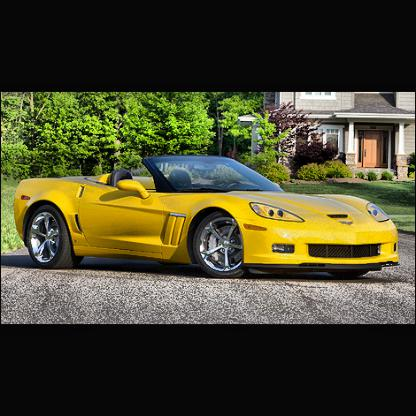Chevrolet Corvette Convertible 2012: (16, 155, 401, 282)
